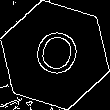O_S: (27, 24, 83, 86)
